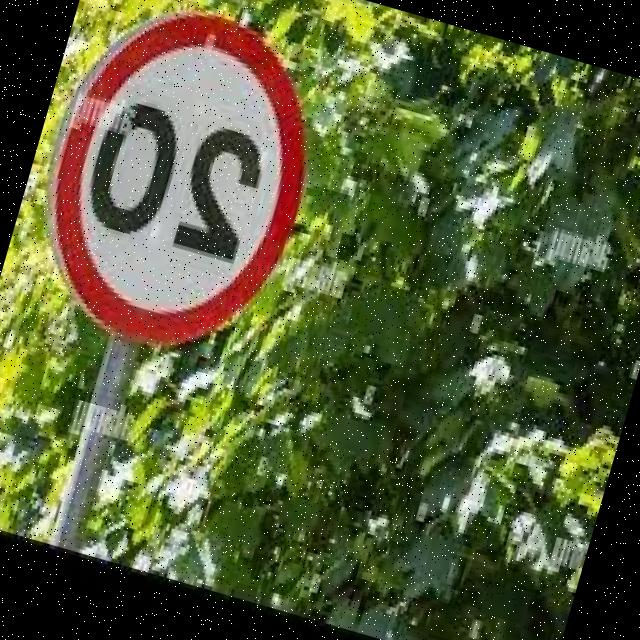speed_limit_20: (0, 0, 359, 391)
